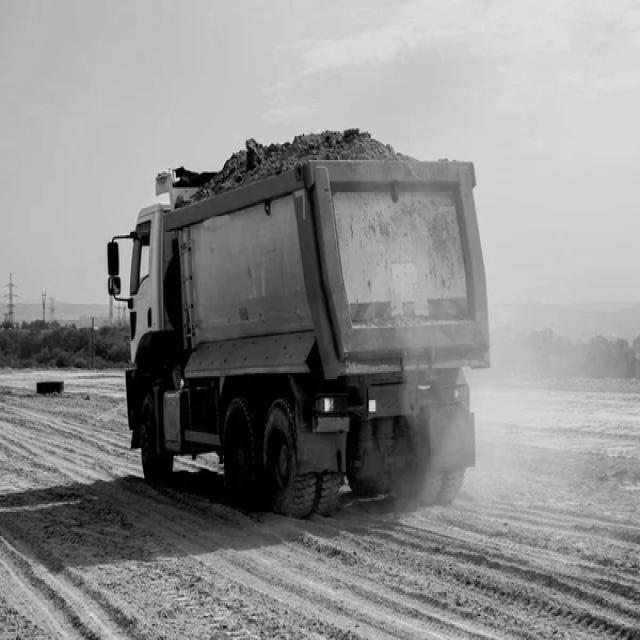Truck: (108, 160, 490, 518)
